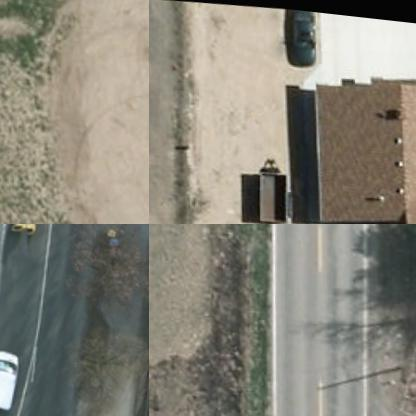car: (286, 5, 319, 66), (0, 347, 17, 410)
